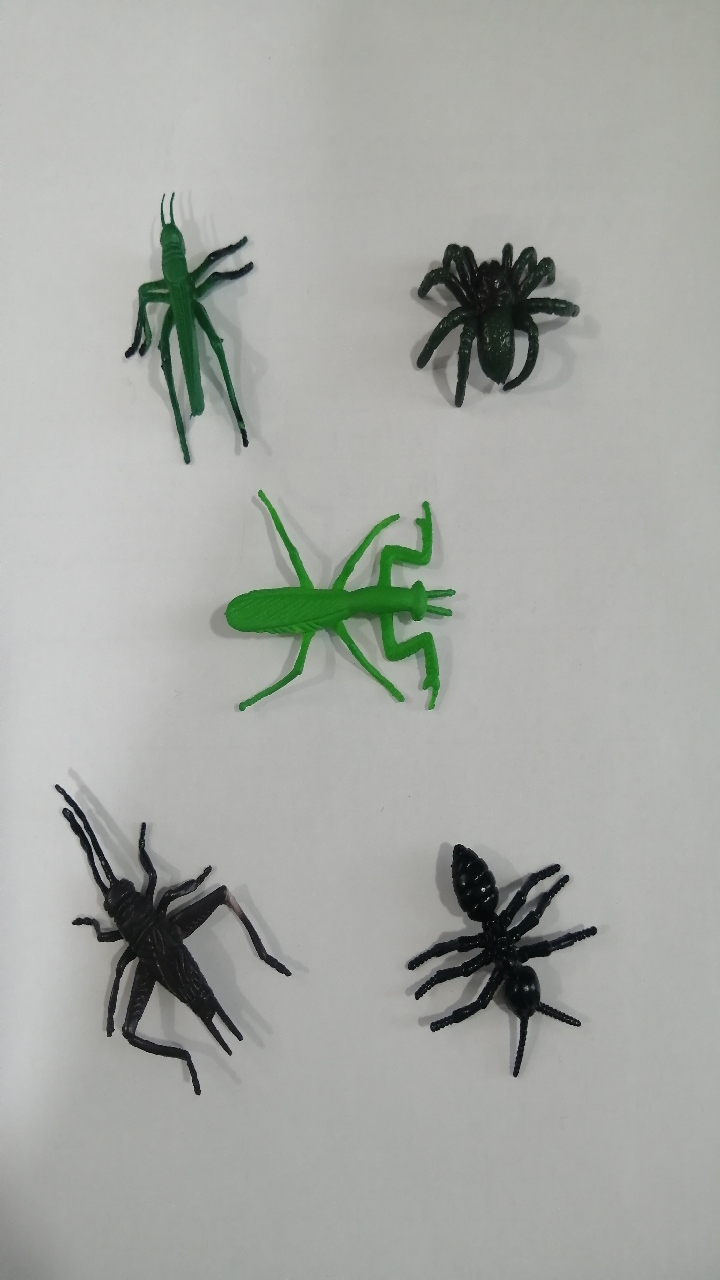intruso: (23, 757, 317, 1120), (163, 477, 491, 743), (374, 812, 620, 1114), (94, 166, 283, 491), (388, 202, 606, 434)
